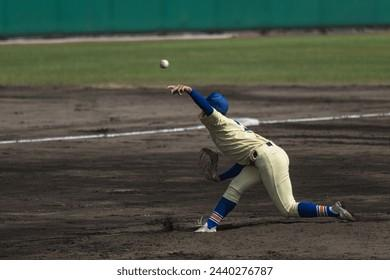baseball: (160, 59, 169, 69)
